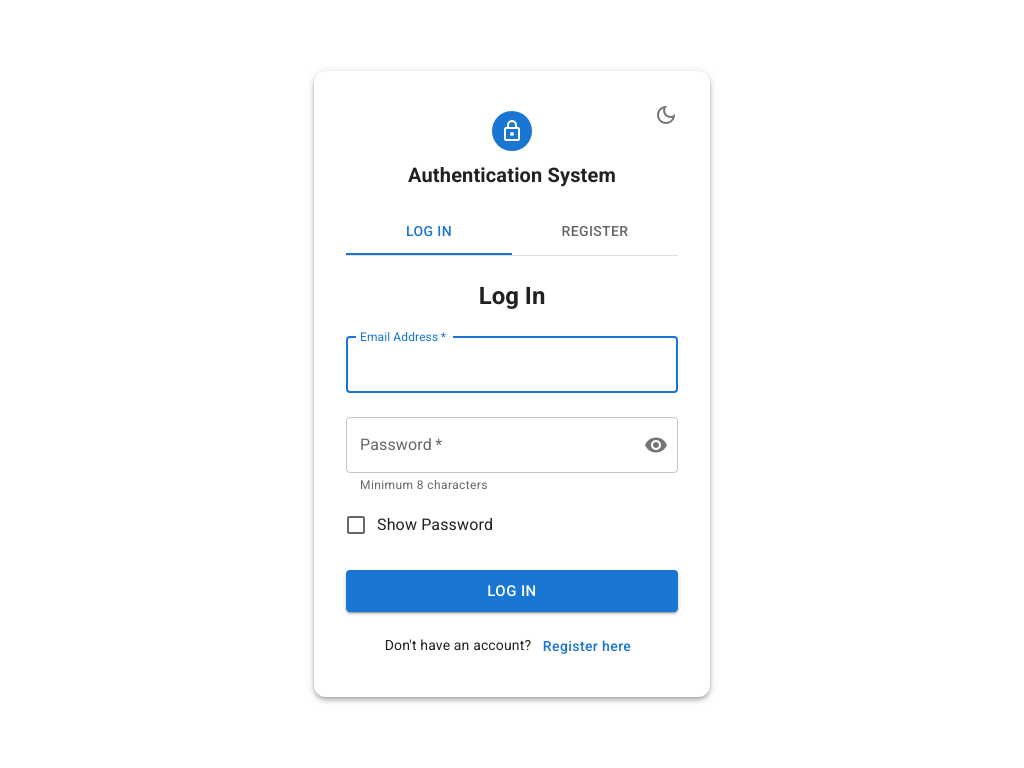
Test: authentication application › switches between login and registration views and toggles theme
Check: the heading "Log In" is shown, box left=479, top=282, right=545, bottom=310
Click the tab "Register": (595, 232) left=512, top=208, right=678, bottom=256
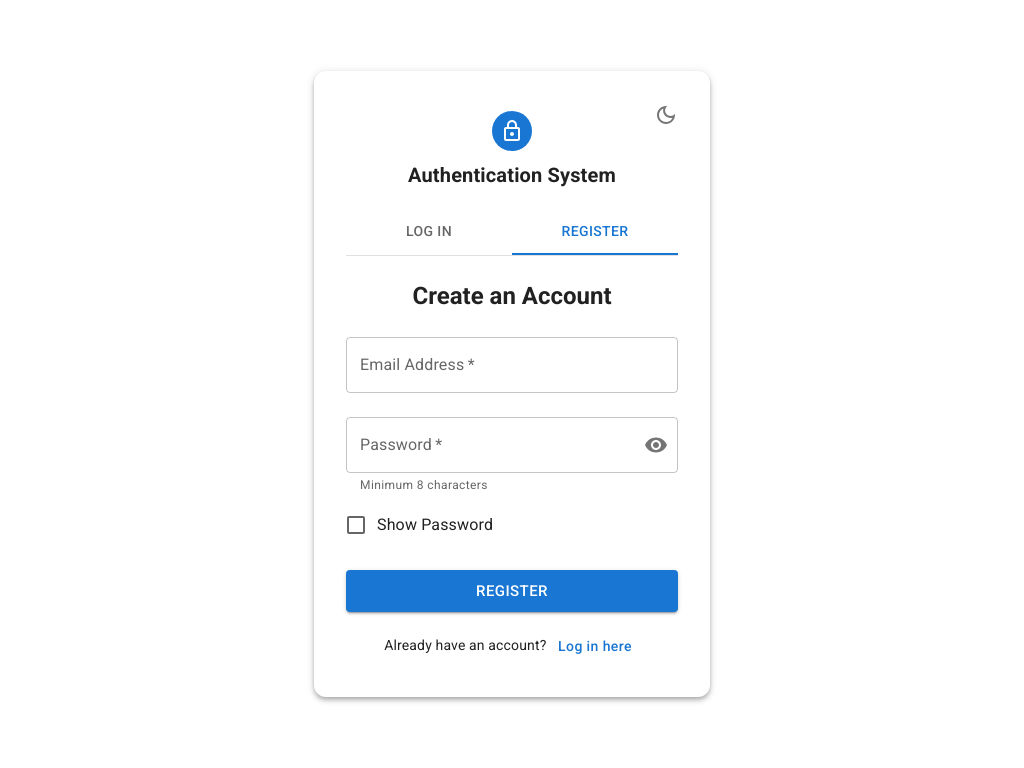
Check: the heading "Create an Account" is shown, box left=412, top=282, right=612, bottom=310
Click the button named "Switch to dark mode": (666, 116) left=646, top=96, right=686, bottom=136
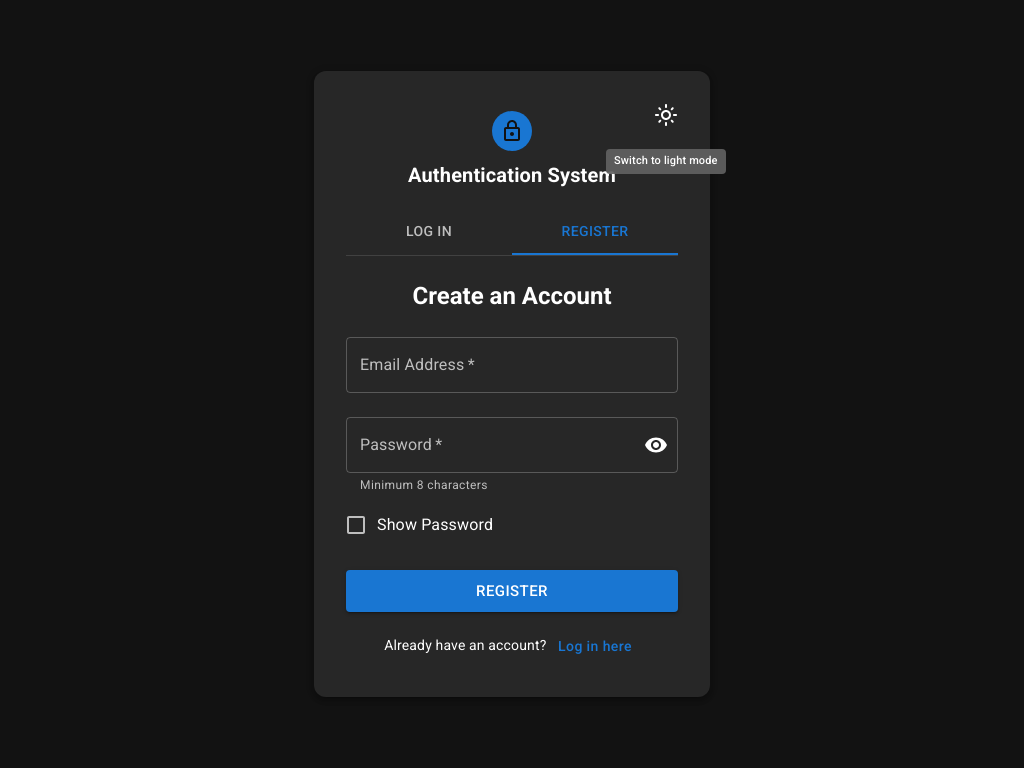
Check: the button named "Switch to light mode" is shown, box left=646, top=96, right=686, bottom=136
